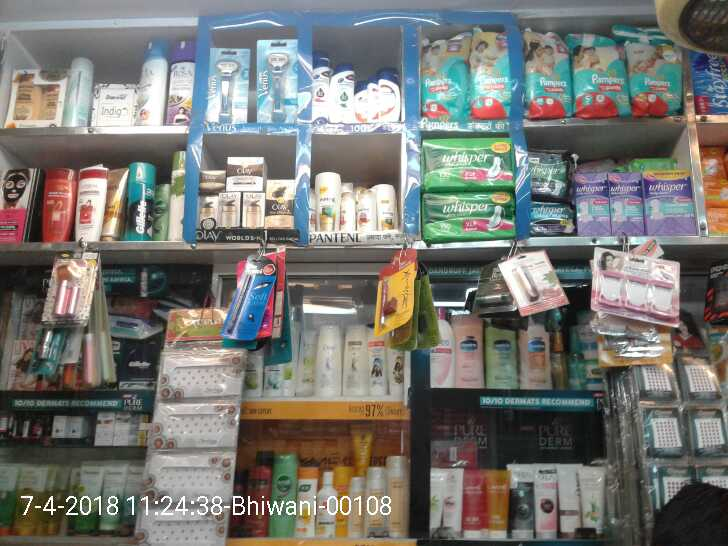gillete: (126, 162, 158, 240)
venus: (256, 39, 297, 126), (205, 47, 251, 123)
